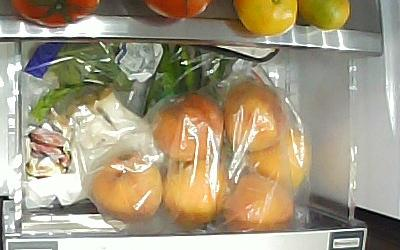peach_vinyl: (151, 95, 224, 163), (92, 153, 162, 222), (225, 173, 297, 234), (226, 83, 285, 154), (163, 159, 226, 223), (252, 124, 309, 190)
